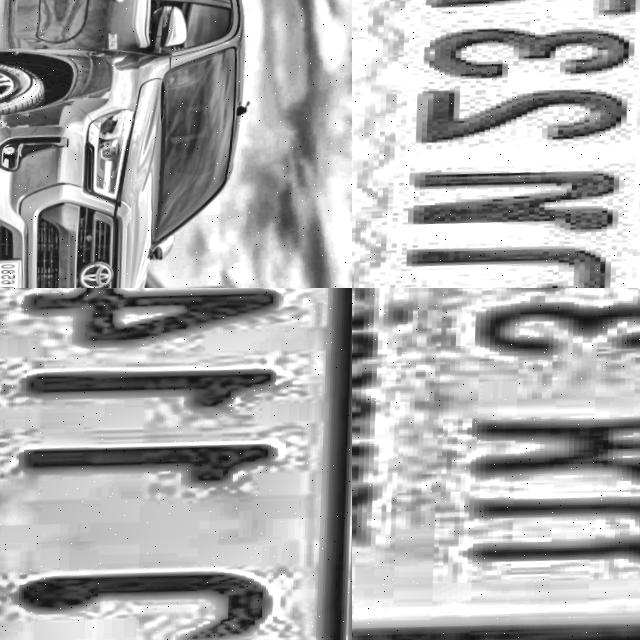license-plate: (0, 288, 352, 640), (352, 288, 640, 640), (352, 0, 640, 288), (0, 258, 28, 288)
